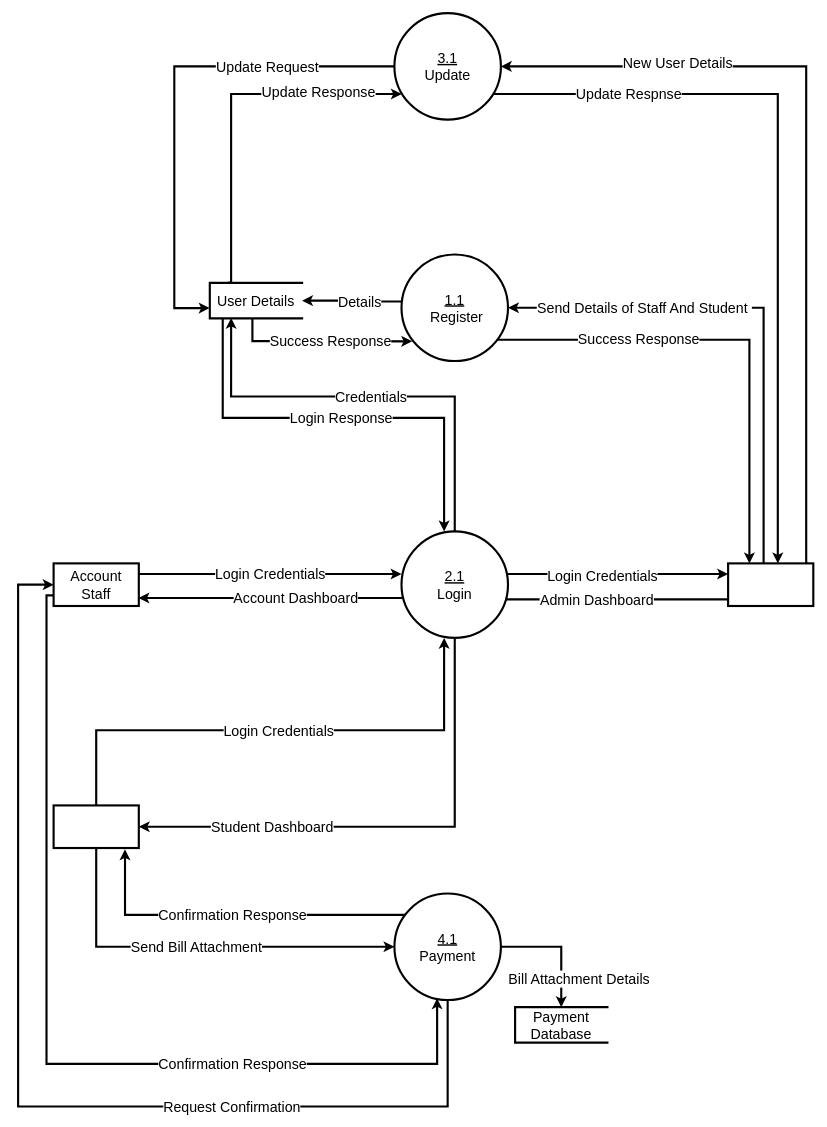
Image size: 827x1127. Some labels were removed from this diagram. The centre of each missing label's shape, as x and y in pixels:
"Admin" belongs at point 770,584.
"Student" belongs at point 96,826.
